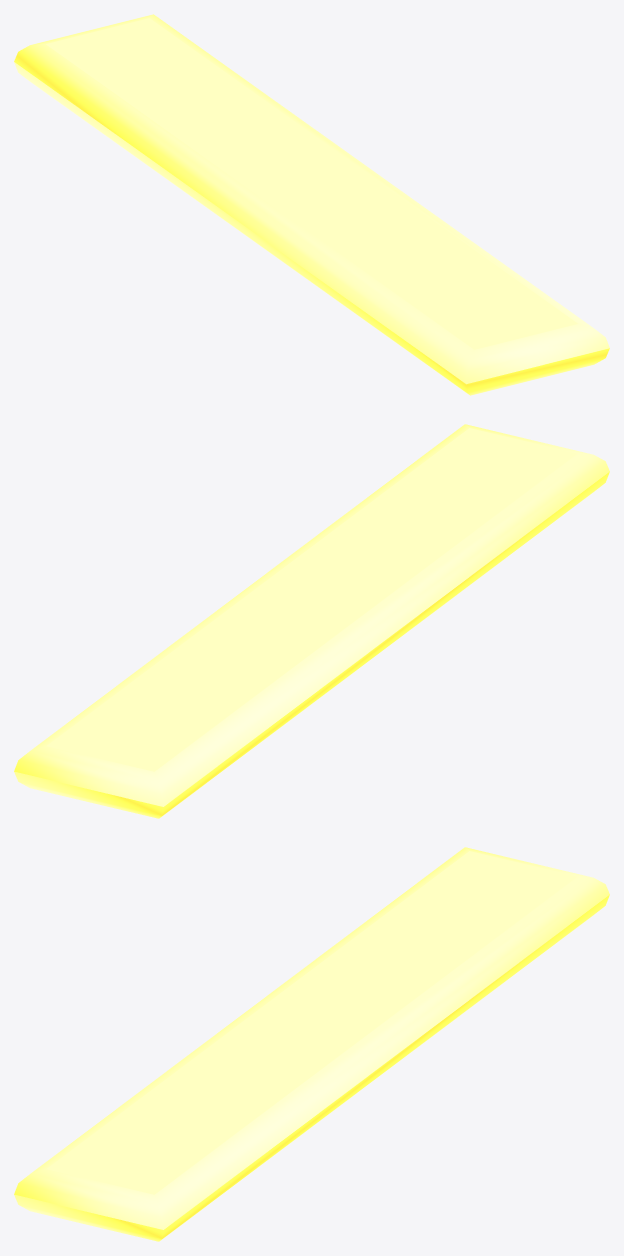
File: numb_1_yellow.glb
The picture shows the model from 3 angles, top to bottom: view 1: azimuth 30°, elevation 25°; view 2: azimuth 150°, elevation 25°; view 3: azimuth 330°, elevation 25°; orthographic projection. The views are drawn at different scales.
Visible parts, largest first — view 1: 1_numb_yellow; view 2: 1_numb_yellow; view 3: 1_numb_yellow.
Part boxes in pixels (x1,y1,x2,y2): 1_numb_yellow: (14, 14, 609, 395); 1_numb_yellow: (14, 424, 609, 818); 1_numb_yellow: (14, 847, 609, 1241).
Bounding box in the file's own units: 0.4598 × 0.12 × 2.31.
